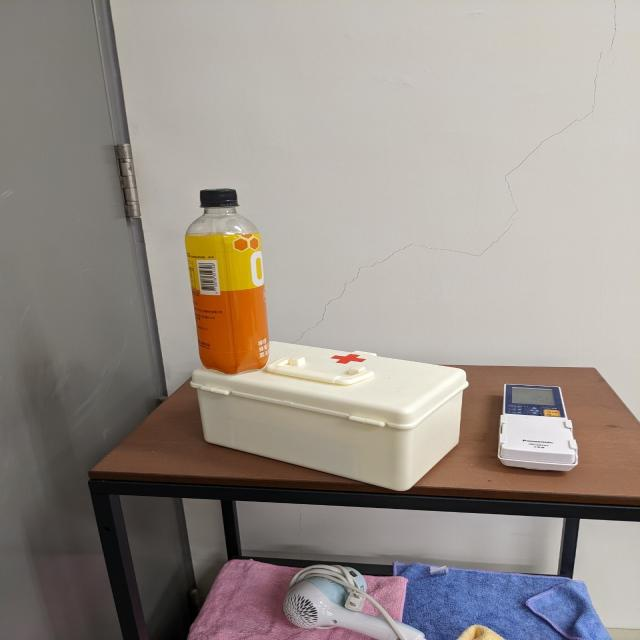bottle: (182, 186, 272, 374)
